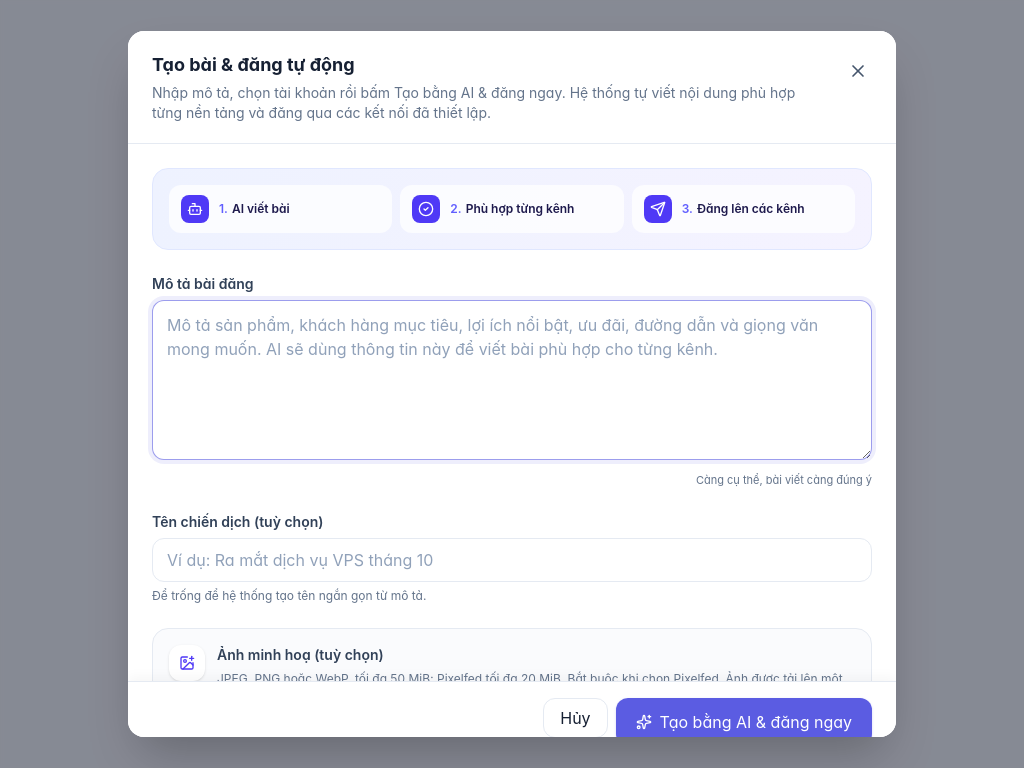
Test case: AutomationCampaignModal › requires Pixelfed media before generating or submitting the campaign
The width and height of the screenshot is (1024, 768).
Replace the text in the text box labelled "Mô tả bài đăng" with "Chia sẻ thông tin sản phẩm theo nội dung được cung cấp.". click: (512, 380)
box: [152,300,872,460]
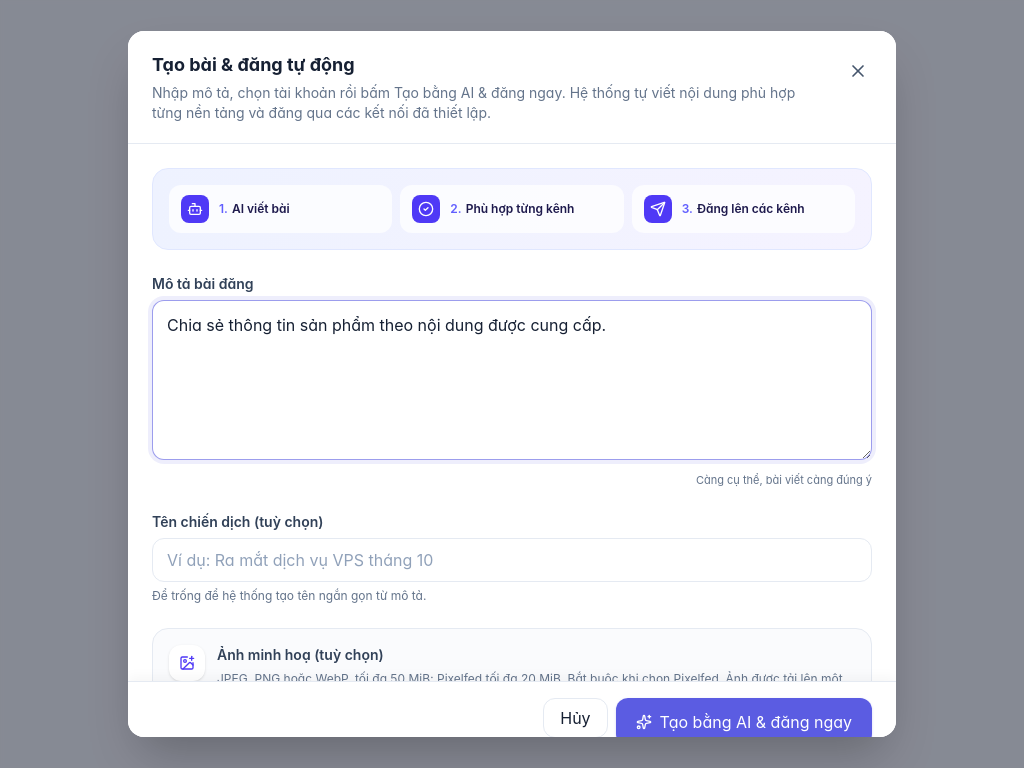
Click the button "Tạo bằng AI & đăng ngay". click: (744, 721)
box: [616,697,872,745]
(page scrolled)
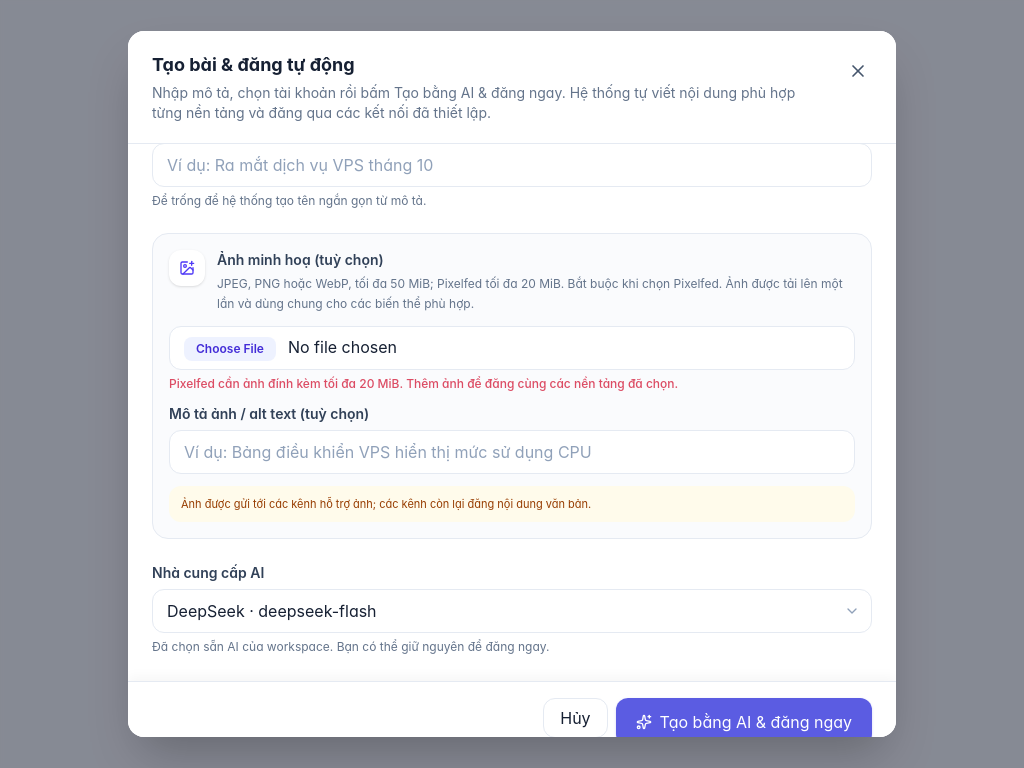
Check: the text "Pixelfed cần ảnh đính kèm tối đa 20 MiB" is shown, box [169,376,678,391]
